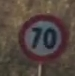limite 70: (18, 13, 67, 62)
